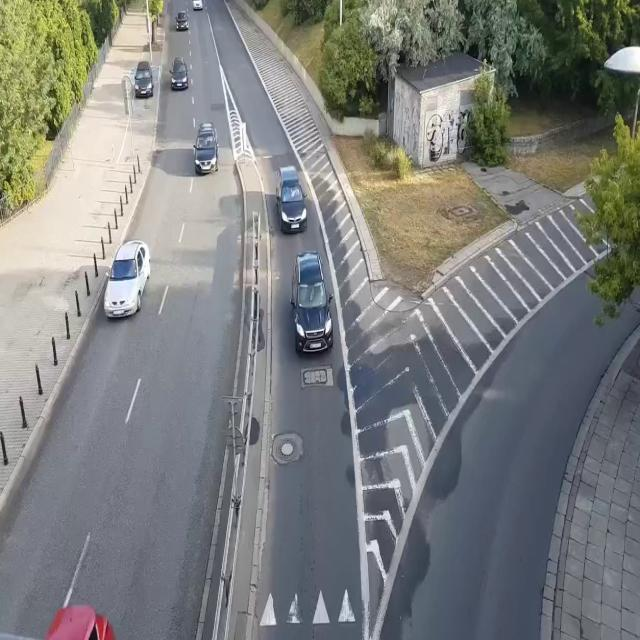car: (290, 250, 336, 360), (101, 239, 152, 323), (274, 164, 310, 239), (190, 119, 222, 177), (133, 60, 155, 100), (168, 54, 189, 91), (174, 9, 188, 31), (191, 0, 202, 10)
